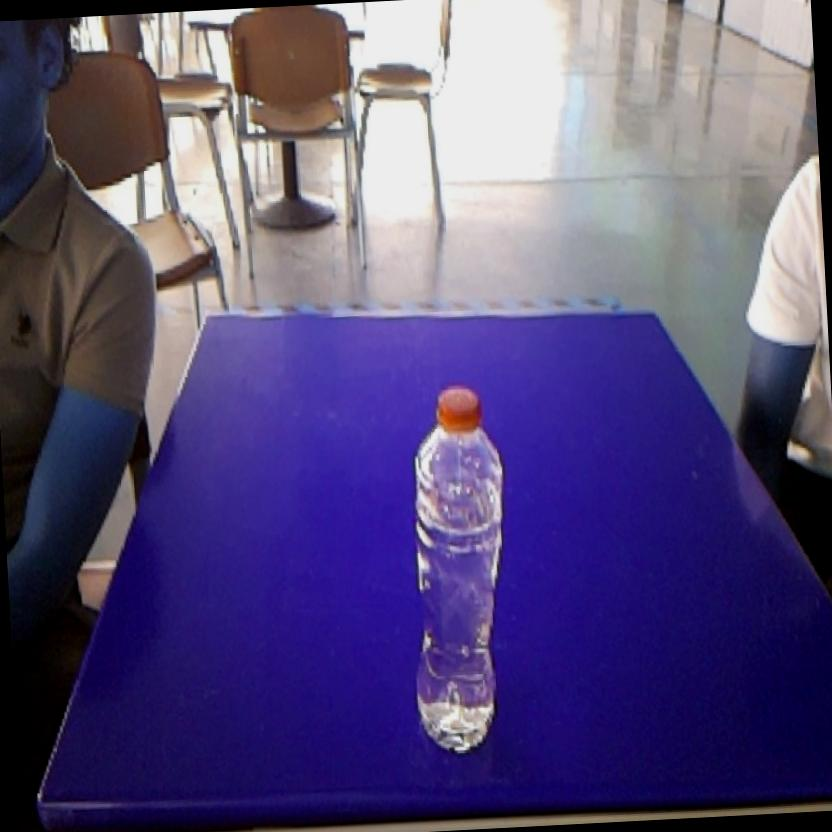no_label: (392, 378, 524, 766)
